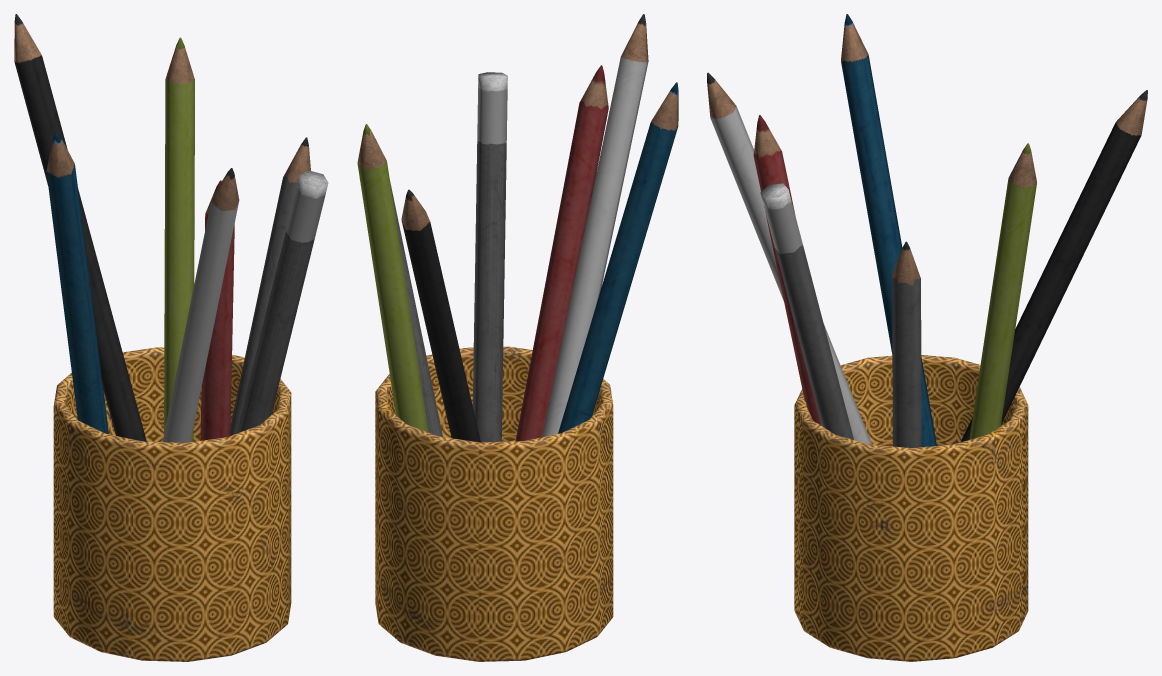
Rendered from pencil_holder_.fbx.
3 renders of one model, left to right at view 1: azimuth 30°, elevation 25°; view 2: azimuth 150°, elevation 25°; view 3: azimuth 270°, elevation 25°, orthographic. The views are drawn at different scales.
Parts seen in each view (by area): view 1: Object_4.004, Object_6.003, Object_5.002; view 2: Object_4.004, Object_6.003, Object_5.002; view 3: Object_4.004, Object_6.003, Object_5.002.
Boxes of the visible parts, x1,y1,x2,y2 form: Object_4.004: [53, 347, 291, 661]; Object_6.003: [46, 37, 310, 442]; Object_5.002: [14, 14, 328, 442]; Object_4.004: [375, 346, 613, 661]; Object_6.003: [357, 65, 678, 441]; Object_5.002: [401, 14, 648, 442]; Object_4.004: [794, 355, 1028, 661]; Object_6.003: [753, 14, 1036, 447]; Object_5.002: [707, 72, 1147, 444].
Size of the model in its own units: 0.1383 by 0.2494 by 0.1884.
3 materials, 3 textured.
